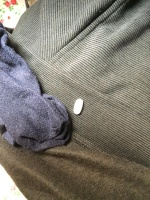Centik Buskopan: (72, 97, 84, 116)
